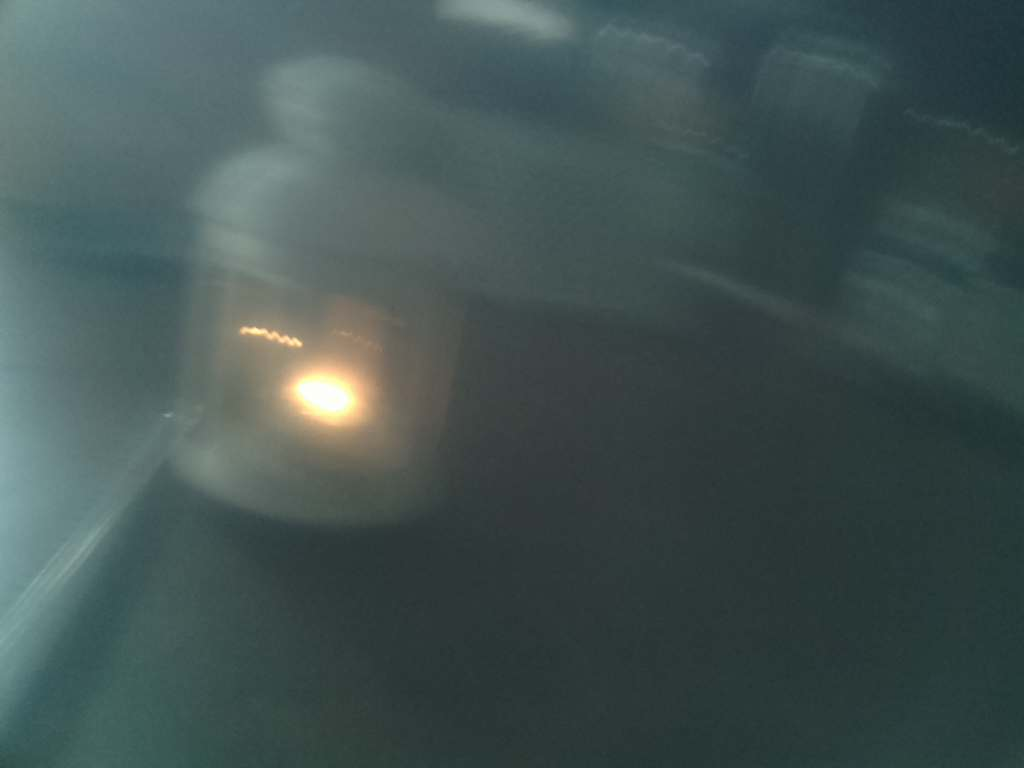fire: (254, 333, 383, 457)
